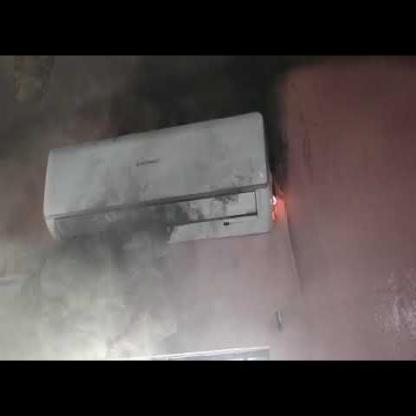smoke: (3, 51, 192, 362)
